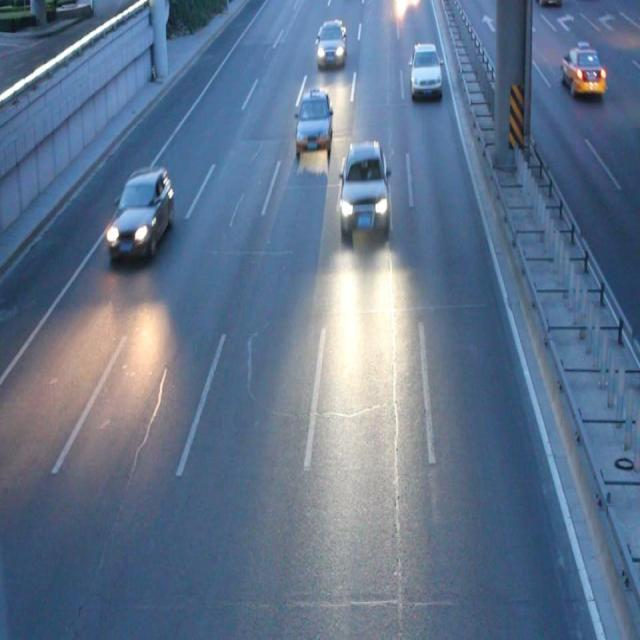car: (109, 172, 173, 256), (340, 142, 389, 238), (295, 93, 331, 154), (559, 48, 603, 93), (410, 44, 440, 94), (316, 22, 346, 63)
